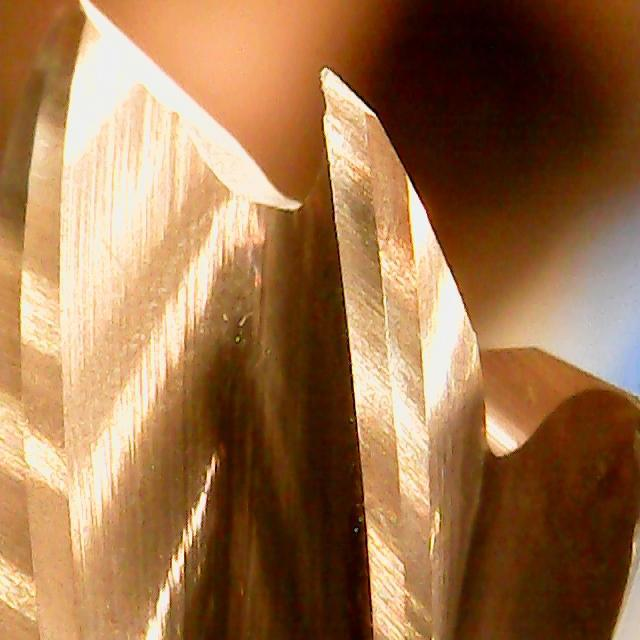Tool-wear-class-0: (300, 60, 460, 399)
